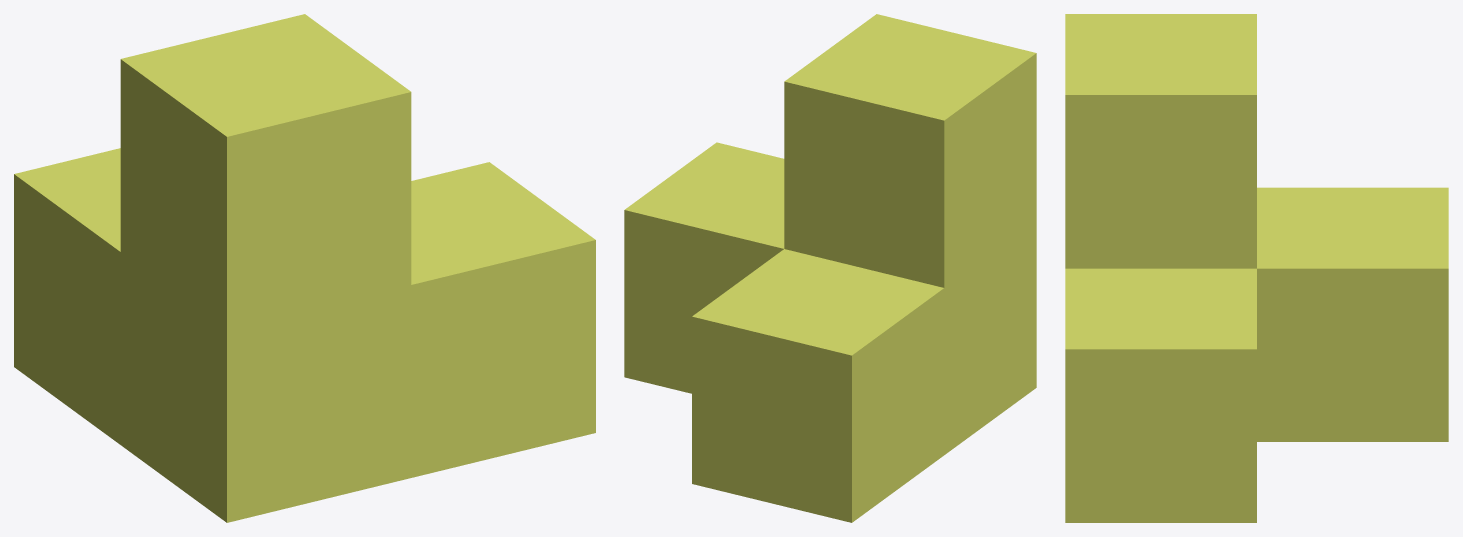
Rendered from Block4.fbx.
3 renders of one model, left to right at view 1: azimuth 30°, elevation 25°; view 2: azimuth 150°, elevation 25°; view 3: azimuth 270°, elevation 25°, orthographic. The views are drawn at different scales.
Visible parts, largest first — view 1: Cube.001; view 2: Cube.001; view 3: Cube.001.
Part boxes in pixels (x1,y1,x2,y2): Cube.001: (14,14,595,522); Cube.001: (624,14,1036,522); Cube.001: (1065,14,1448,522).
Size of the model in its own units: 400 by 400 by 400.
